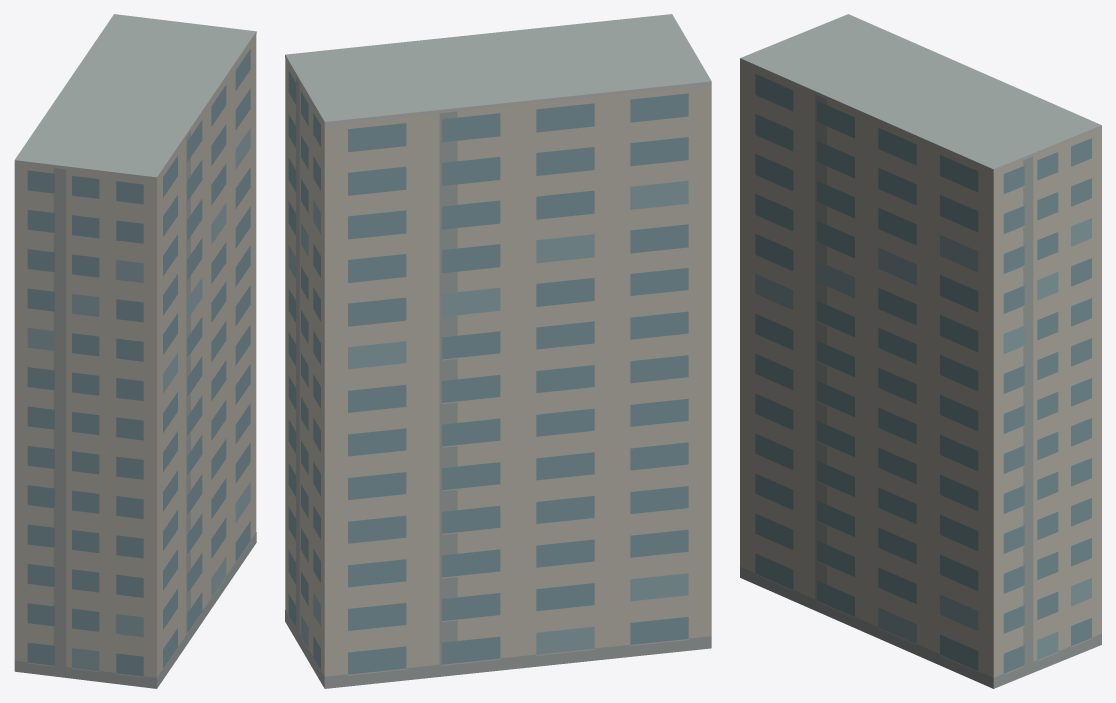
File: residential-98713c41-aeca-4b69-830f-da370a22f5b5.glb
3 views of the same model, side by side, from view 1: azimuth 30°, elevation 25°; view 2: azimuth 150°, elevation 25°; view 3: azimuth 270°, elevation 25° (orthographic). The views are drawn at different scales.
Parts seen in each view (by area): view 1: residential-98713c41-aeca-4b69-830f-da370a22f5b5.tmp; view 2: residential-98713c41-aeca-4b69-830f-da370a22f5b5.tmp; view 3: residential-98713c41-aeca-4b69-830f-da370a22f5b5.tmp.
Boxes of the visible parts, bbox=[...] form: residential-98713c41-aeca-4b69-830f-da370a22f5b5.tmp: bbox=[14, 14, 256, 688]; residential-98713c41-aeca-4b69-830f-da370a22f5b5.tmp: bbox=[285, 14, 711, 688]; residential-98713c41-aeca-4b69-830f-da370a22f5b5.tmp: bbox=[740, 14, 1101, 688].
Bounding box in the file's own units: 25.66 × 40 × 25.26.
